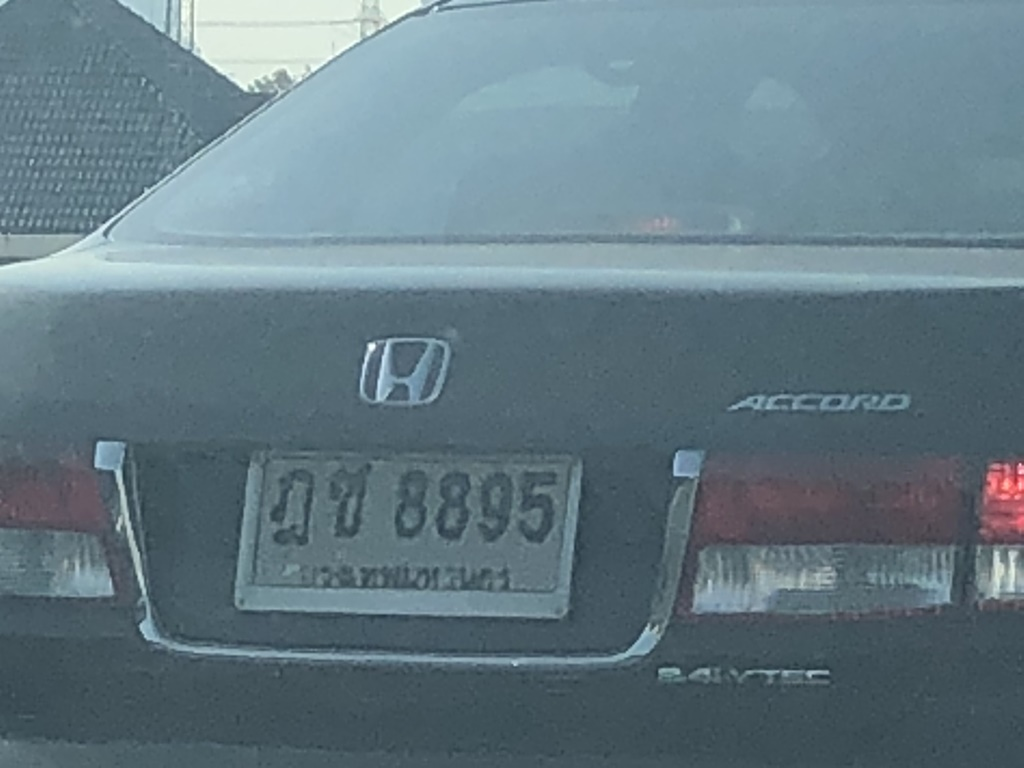five: (517, 463, 561, 551)
nine: (388, 466, 429, 545), (433, 466, 469, 546)
plate: (238, 439, 591, 622)
